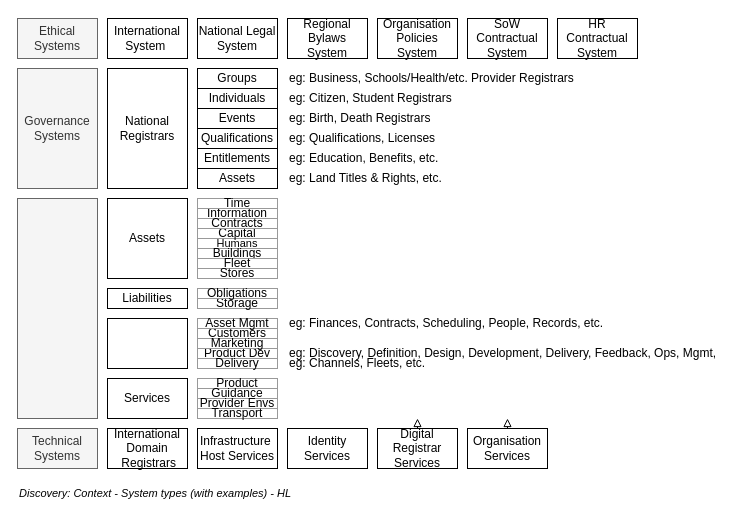
The diagram is 735 pixels wide and 517 high, and some of its shapes have lost their labels. Here are the shapes that lost their labels. From the top down, the centre of each, then its label:
At (x=57, y=308): "Organisation Management Systems".
At (x=147, y=343): "Capabilities".
